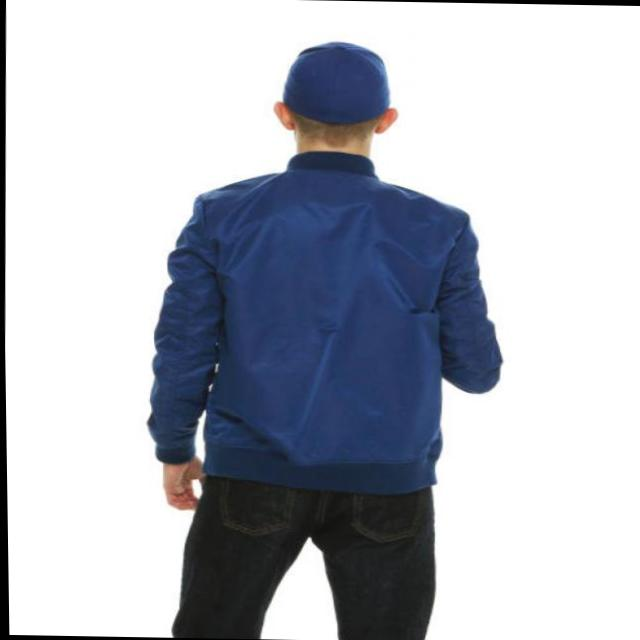no helmet: (242, 28, 430, 160)
